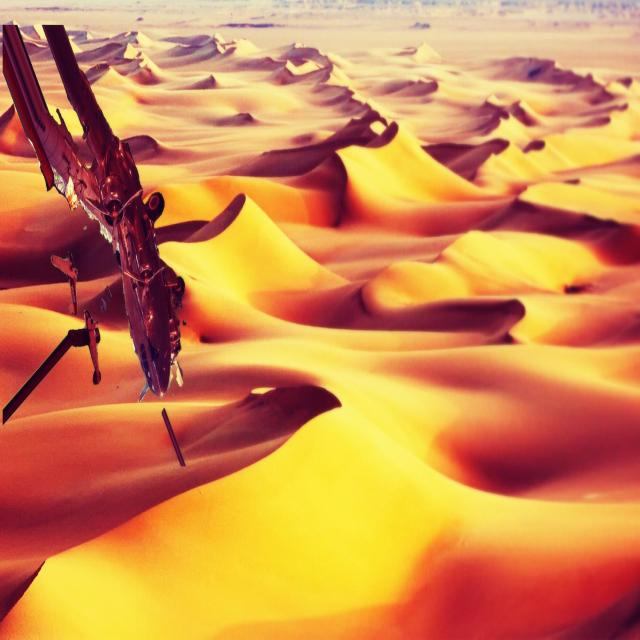airplane: (3, 26, 186, 467)
